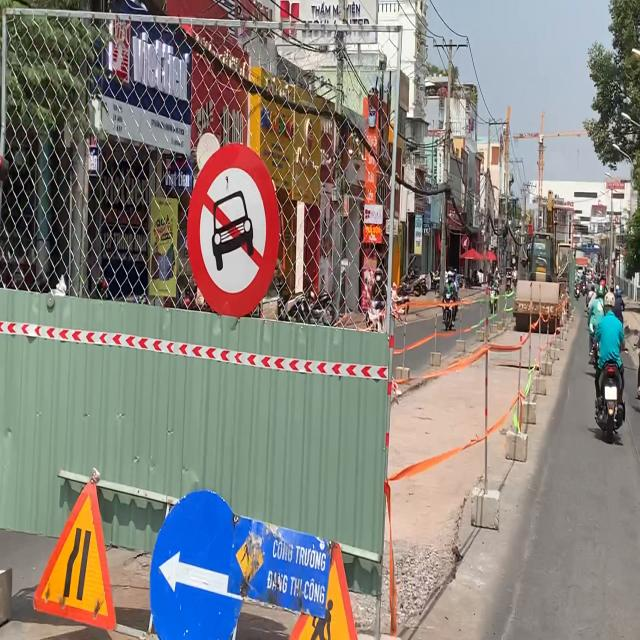Cam con lai: (185, 141, 281, 319)
Nguy hiem: (31, 473, 118, 633)
Re trai: (148, 486, 245, 640)
